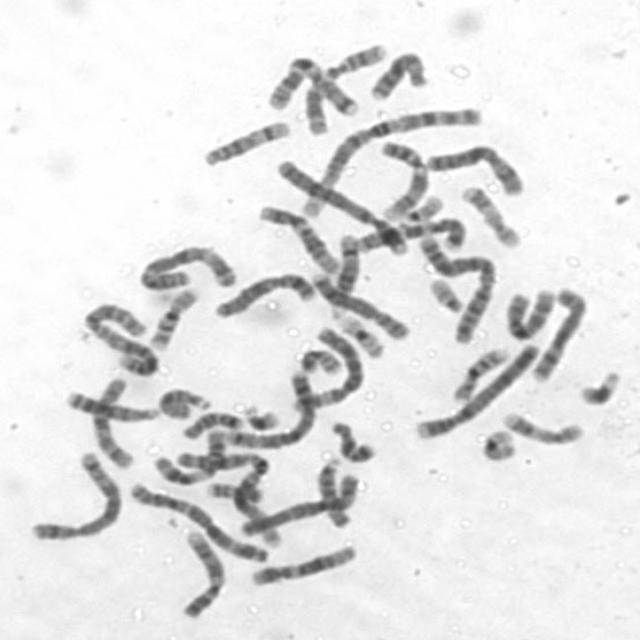A1: (290, 102, 486, 219), (170, 443, 283, 548)
A2: (412, 229, 498, 345), (77, 297, 160, 378)
A3: (124, 476, 271, 564), (134, 240, 242, 293)
B4: (272, 153, 412, 257), (410, 336, 542, 441)
B5: (25, 446, 125, 543), (218, 365, 321, 451)
C10: (87, 373, 137, 470), (500, 281, 561, 342)
C11: (302, 36, 391, 138), (148, 424, 229, 487)
C12: (254, 200, 344, 276), (243, 539, 359, 587)
C6: (232, 468, 364, 539), (287, 322, 366, 412)
C7: (263, 51, 361, 117), (344, 213, 469, 255)
C8: (306, 267, 413, 342), (528, 281, 590, 384)
C9: (374, 134, 433, 222), (177, 524, 230, 620)
D13: (364, 45, 434, 103), (60, 386, 162, 422)
D14: (196, 114, 293, 168), (326, 228, 362, 311)
D15: (311, 451, 354, 529), (154, 382, 213, 420)
E16: (144, 282, 202, 351), (448, 342, 514, 402)
E17: (455, 179, 524, 248), (496, 406, 588, 447)
E18: (326, 415, 380, 464), (178, 406, 246, 440)
F19: (332, 307, 387, 359), (476, 424, 520, 463)
F20: (203, 478, 266, 504), (295, 344, 344, 376)
G21: (572, 364, 624, 407), (238, 400, 284, 432)
G22: (423, 272, 467, 314), (397, 190, 445, 223)
X: (418, 138, 528, 198), (210, 266, 319, 320)
